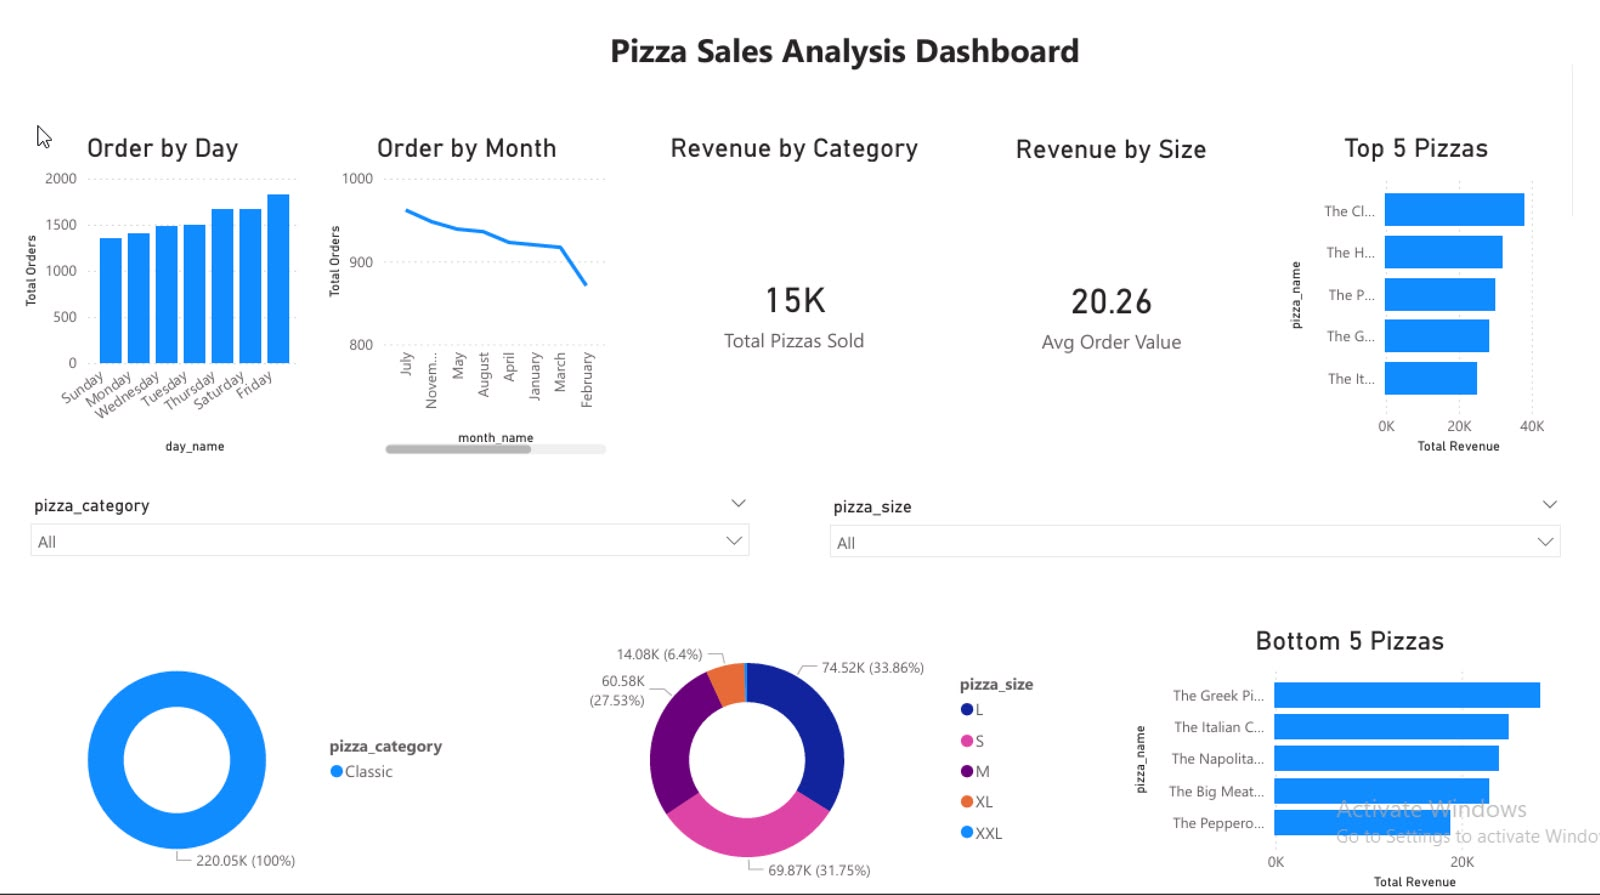

The dashboard page shown, as its layout file describes it:
{"tool":"powerbi","page":{"name":"Page 1","canvas":[1280,720],"ordinal":0},"visuals":[{"type":"clusteredColumnChart","title":"Order by Day","fields":{"Y":["pizza_clean.Total Orders"],"Category":["pizza_clean.day_name"]},"box":[0,91.6,238,269],"z":0},{"type":"lineChart","title":"Order by Month","fields":{"Y":["pizza_clean.Total Orders"],"Category":["pizza_clean.month_name"]},"box":[249.8,91.6,239.4,270.5],"z":1},{"type":"clusteredBarChart","title":"Top 5 Pizzas","fields":{"Y":["pizza_clean.Total Revenue"],"Category":["pizza_clean.pizza_name"]},"box":[1040.6,91.6,220.2,269],"z":4},{"type":"slicer","fields":{"Values":["pizza_clean.pizza_category"]},"box":[0,385.8,611.9,73.9],"z":5},{"type":"slicer","fields":{"Values":["pizza_clean.pizza_size"]},"box":[657.7,387.3,622.3,72.4],"z":6},{"type":"clusteredBarChart","title":"Bottom 5 Pizzas","fields":{"Category":["pizza_clean.pizza_name"],"Y":["pizza_clean.Total Revenue"]},"box":[913.4,498.1,366.6,221.7],"z":7},{"type":"card","title":"Revenue by Category","fields":{"Values":["pizza_clean.Total Pizzas Sold"]},"box":[529.1,91.6,220.2,269],"z":8},{"type":"card","title":"Revenue by Size","fields":{"Values":["pizza_clean.Avg Order Value"]},"box":[787.8,93.1,224.7,269],"z":9},{"type":"donutChart","fields":{"Y":["pizza_clean.Total Revenue"],"Category":["pizza_clean.pizza_category"]},"box":[0,498.1,369.5,221.7],"z":10},{"type":"donutChart","fields":{"Category":["pizza_clean.pizza_size"],"Y":["pizza_clean.Total Revenue"]},"box":[419.8,498.1,440.5,221.7],"z":11},{"type":"textbox","box":[393.2,0,575,59.1],"z":12}]}

Visuals, with their boxes in screenshot pixels (x1, y1, x2, y2), scaled from the page's 1280x720 canvas onto the 1600x895 screenshot:
"Order by Day" clusteredColumnChart: 0 114 298 448
"Order by Month" lineChart: 312 114 612 450
"Top 5 Pizzas" clusteredBarChart: 1301 114 1576 448
slicer - pizza_clean.pizza_category: 0 480 765 571
slicer - pizza_clean.pizza_size: 822 481 1599 571
"Bottom 5 Pizzas" clusteredBarChart: 1142 619 1599 894
"Revenue by Category" card: 661 114 937 448
"Revenue by Size" card: 985 116 1266 450
donutChart - pizza_clean.Total Revenue x pizza_clean.pizza_category: 0 619 462 894
donutChart - pizza_clean.pizza_size x pizza_clean.Total Revenue: 525 619 1075 894
textbox: 492 0 1210 73
